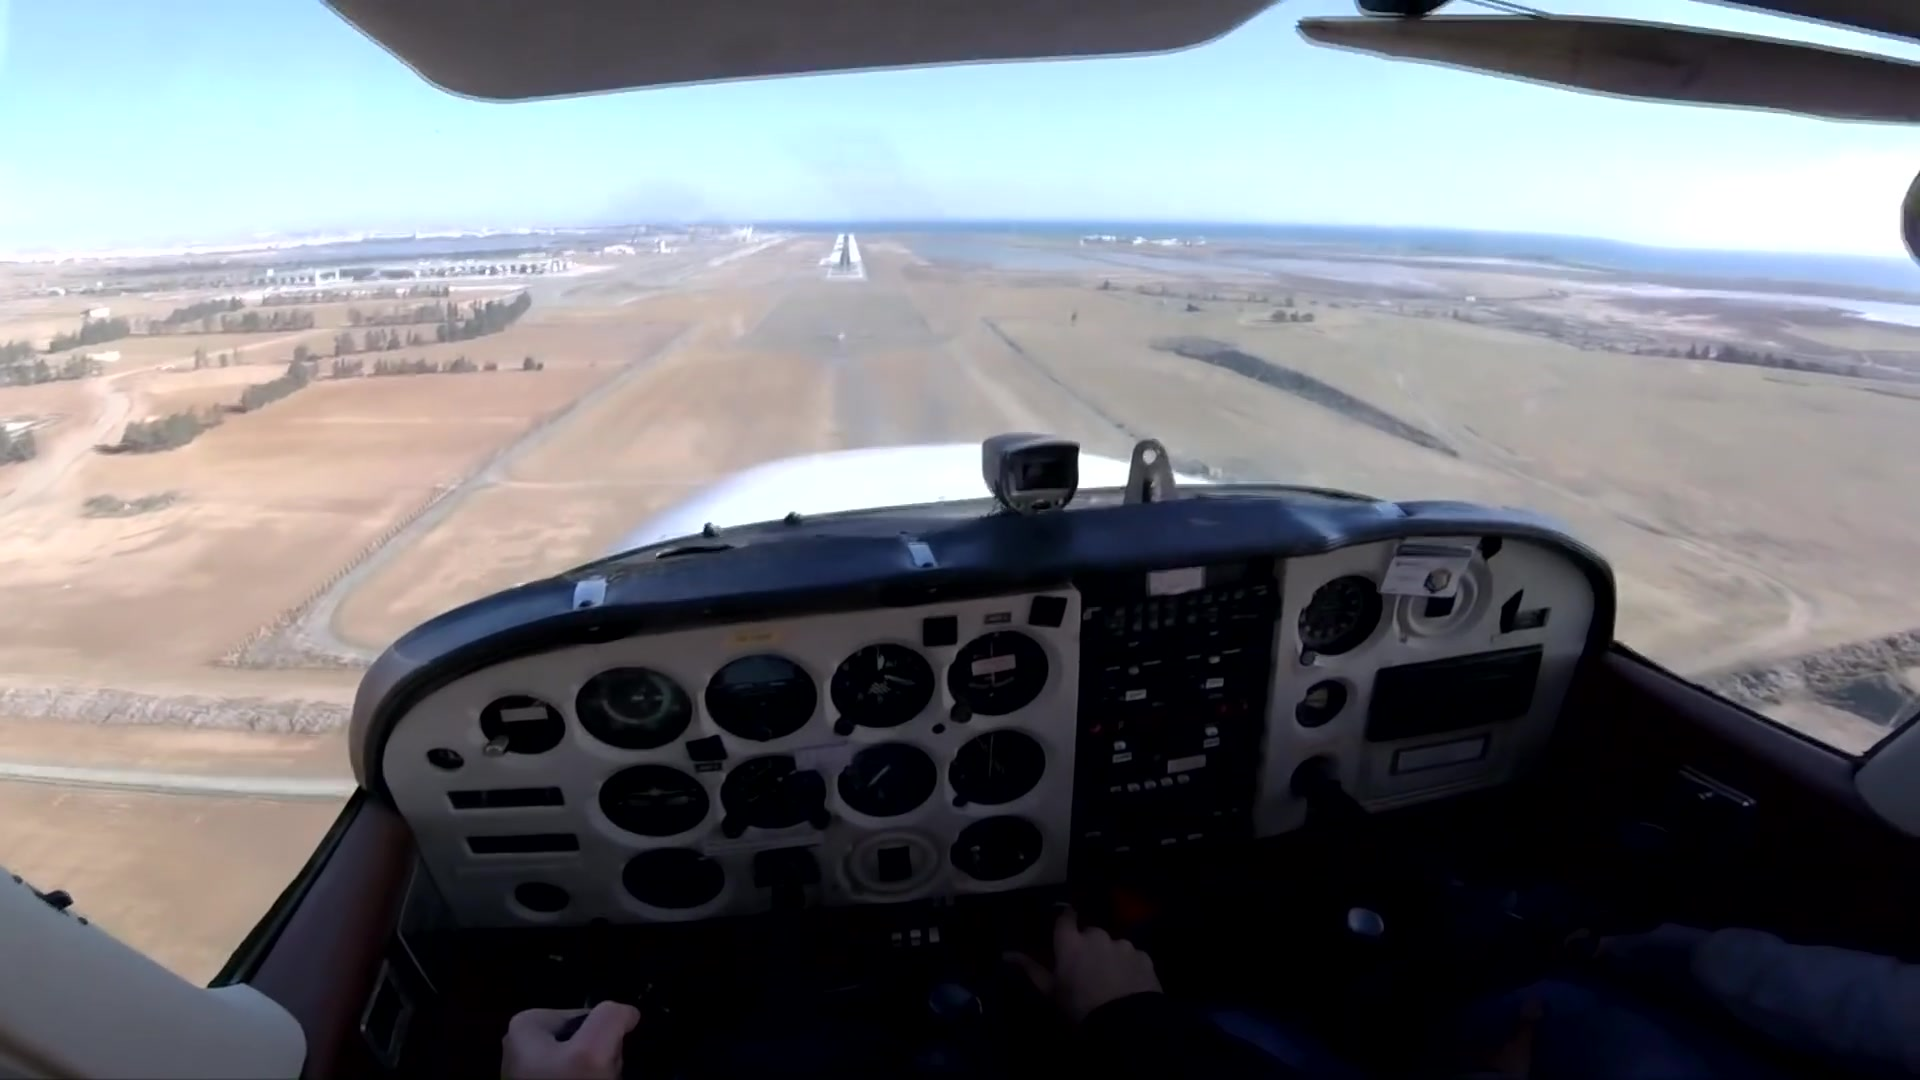runway: (828, 232, 862, 280)
